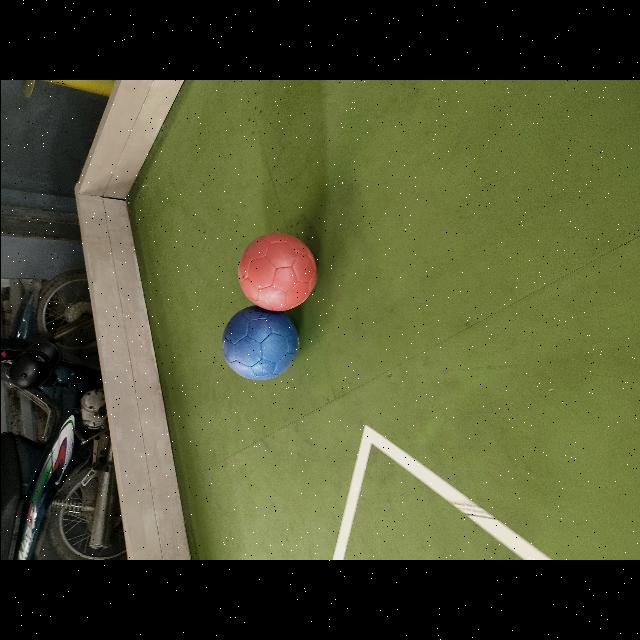B: (221, 306, 297, 380)
R: (238, 233, 316, 311)
